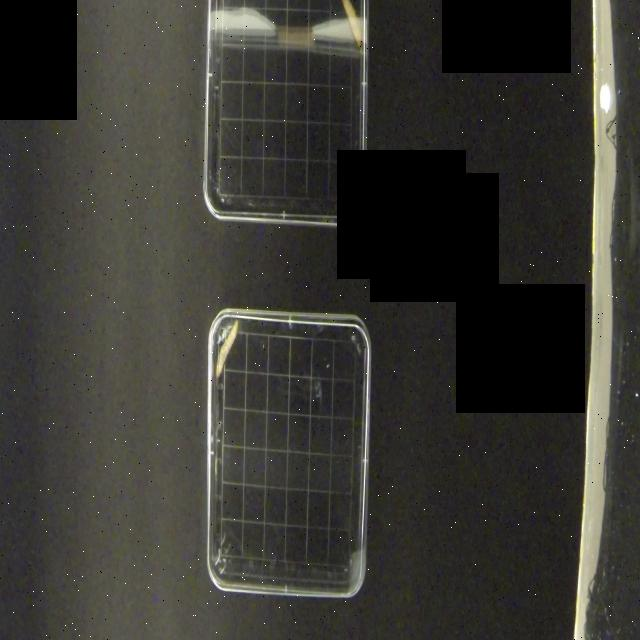larva: (215, 319, 240, 383), (338, 0, 362, 48)
